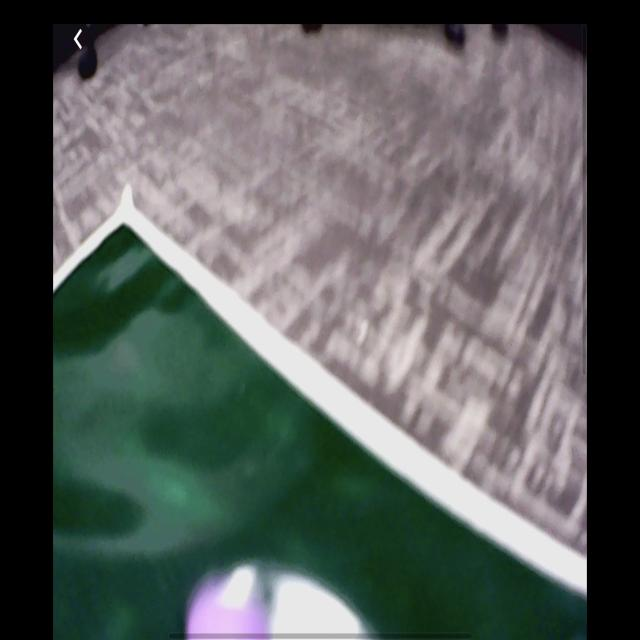ball: (185, 566, 272, 639)
